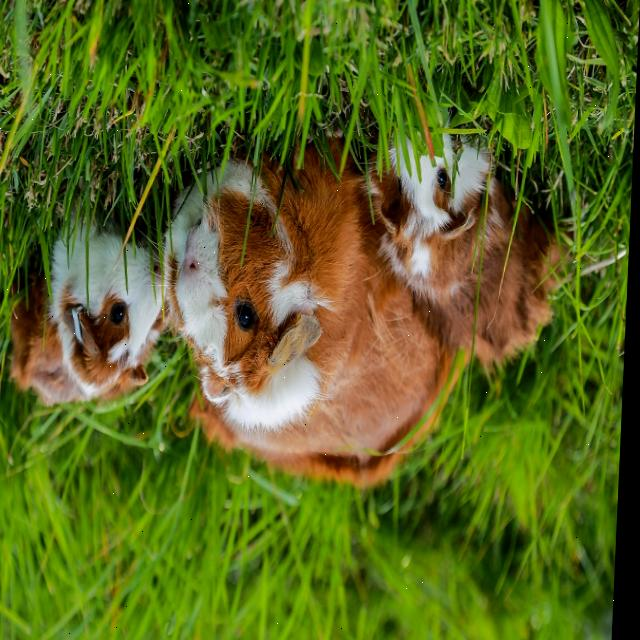guinea pig: (153, 131, 481, 473), (351, 110, 571, 366), (3, 194, 177, 433)
